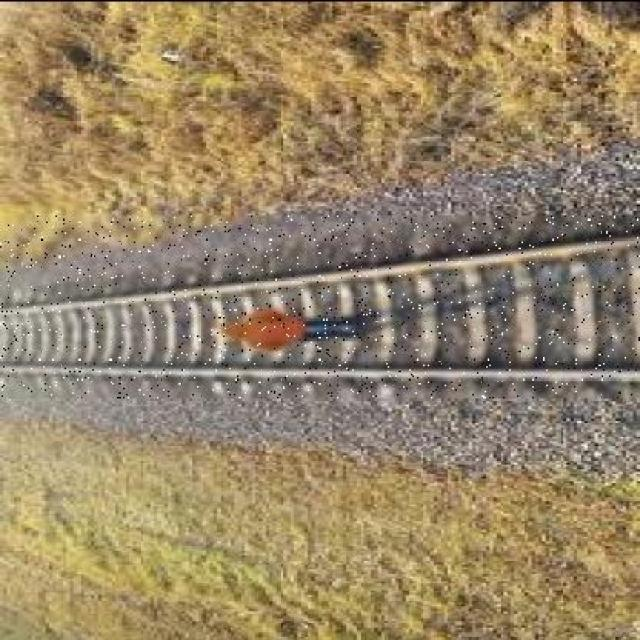danger: (212, 293, 372, 349)
rail: (0, 214, 640, 396)
